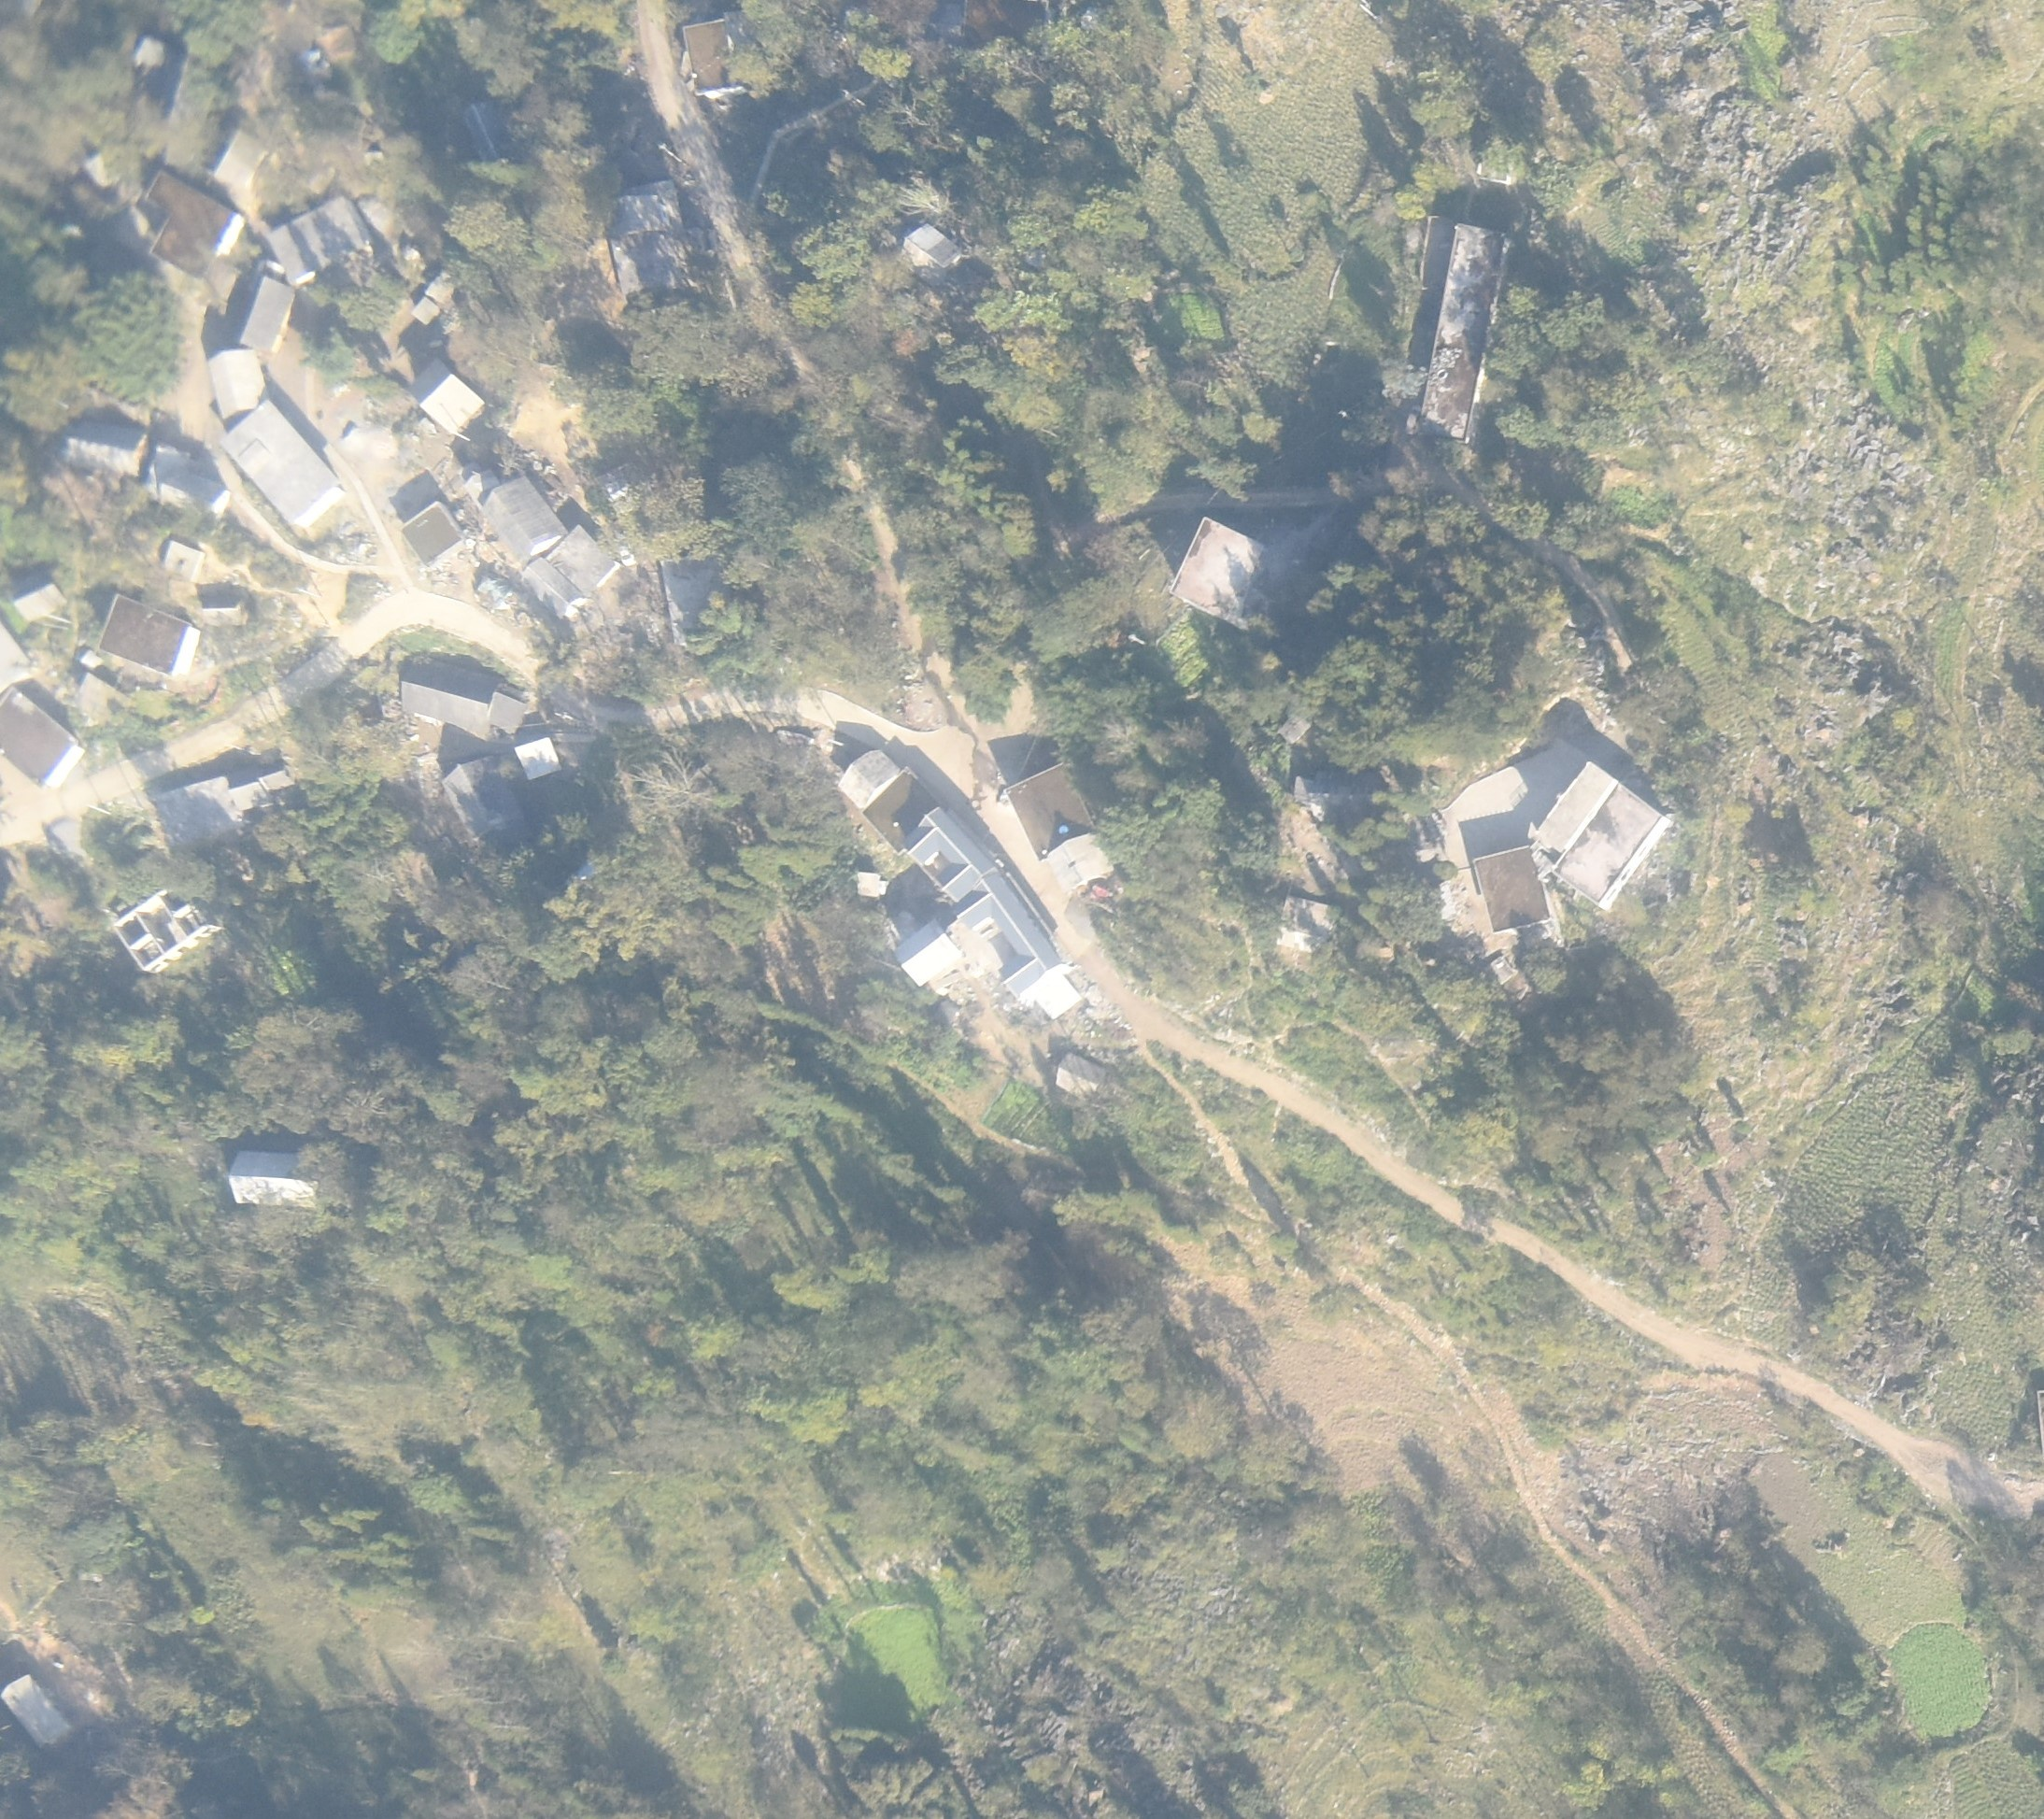building: (909, 803, 1083, 1016), (1176, 504, 1372, 642), (1416, 213, 1508, 459), (1537, 760, 1669, 906), (221, 400, 340, 523), (151, 767, 302, 856), (1007, 763, 1112, 888), (140, 167, 245, 277), (606, 175, 699, 294), (266, 191, 367, 286), (403, 666, 527, 740), (471, 470, 565, 564), (524, 522, 615, 618), (107, 886, 209, 970), (1, 690, 87, 789), (102, 592, 192, 679), (445, 751, 525, 843), (1474, 841, 1555, 928), (661, 554, 726, 648), (867, 769, 938, 854), (1292, 771, 1407, 823), (4, 1666, 71, 1752), (361, 188, 429, 271), (222, 1153, 320, 1210), (684, 18, 754, 95), (409, 362, 484, 433), (64, 419, 150, 480), (145, 450, 228, 513), (892, 920, 959, 988), (1273, 893, 1347, 954), (398, 502, 466, 567), (208, 346, 269, 419), (239, 277, 294, 350), (903, 226, 972, 281), (841, 751, 901, 811), (215, 134, 276, 190), (461, 98, 506, 165), (129, 30, 175, 92), (1, 610, 33, 700), (410, 273, 461, 322), (514, 734, 564, 781), (15, 582, 71, 624), (1050, 1057, 1102, 1098), (599, 458, 645, 503), (298, 46, 336, 98), (159, 540, 206, 581), (86, 145, 125, 191), (195, 593, 243, 624), (1278, 714, 1313, 747), (860, 866, 887, 899)
